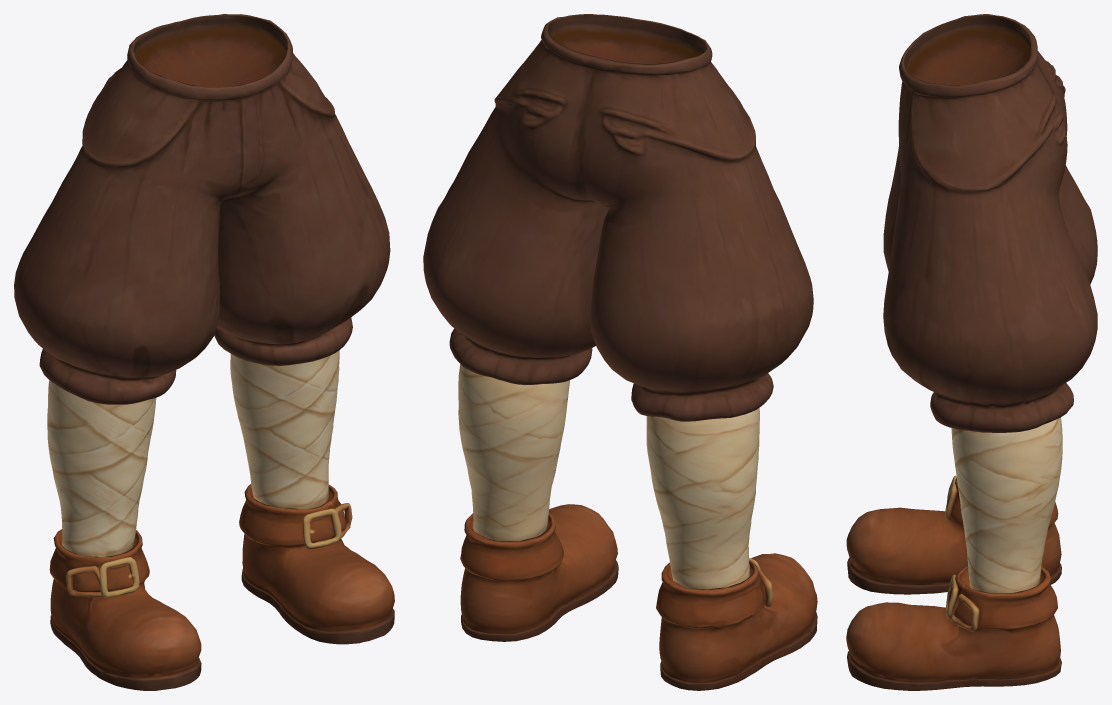
File: Meshy_AI_Waffle_Walker_Pants_1111124058_texture.glb
3 renders of one model, left to right at view 1: azimuth 30°, elevation 25°; view 2: azimuth 150°, elevation 25°; view 3: azimuth 270°, elevation 25°, orthographic. The views are drawn at different scales.
Parts seen in each view (by area): view 1: geometry_0; view 2: geometry_0; view 3: geometry_0.
Part boxes in pixels (x1,y1,x2,y2): geometry_0: (14,14,394,690); geometry_0: (423,14,817,690); geometry_0: (846,14,1097,690).
Size of the model in its own units: 0.629 by 1 by 0.3977.
1 material, 1 textured.
